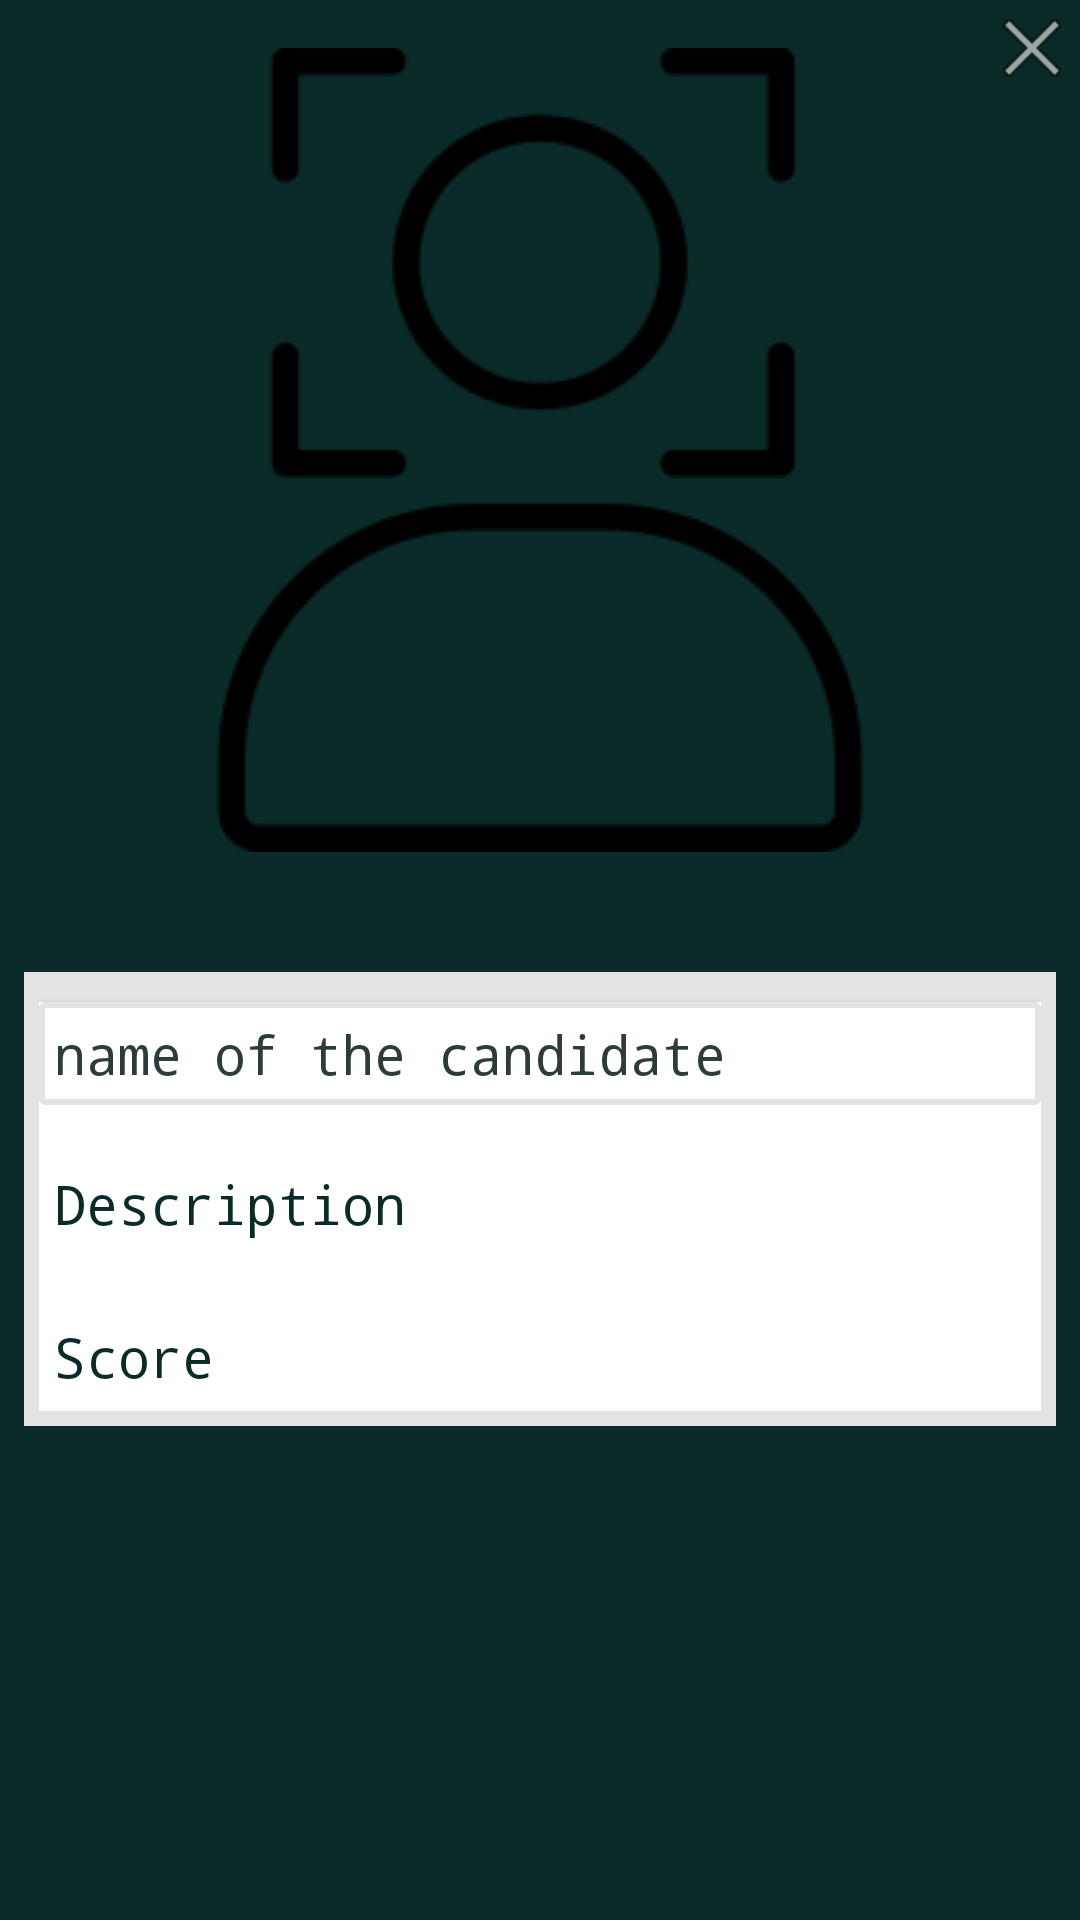

Named icons in this screenshot (1080*1920) and their centers, (x,y):
close clear cancel: (1032,48)
